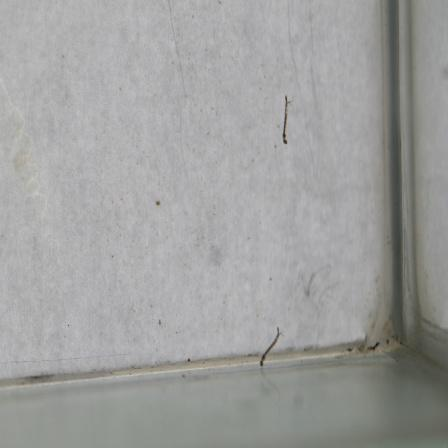Jentik-Nyamuk: (256, 325, 288, 371), (271, 94, 295, 148)
